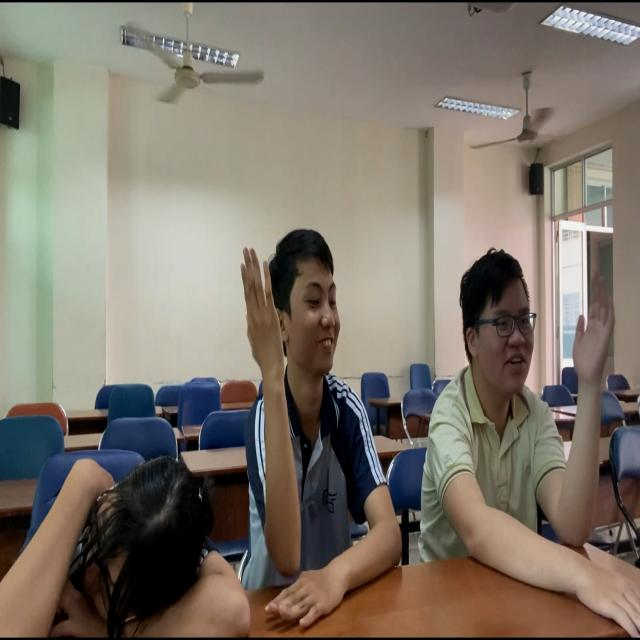raise_hand: (399, 226, 640, 603), (228, 216, 407, 630)
sleep: (3, 391, 249, 640)
